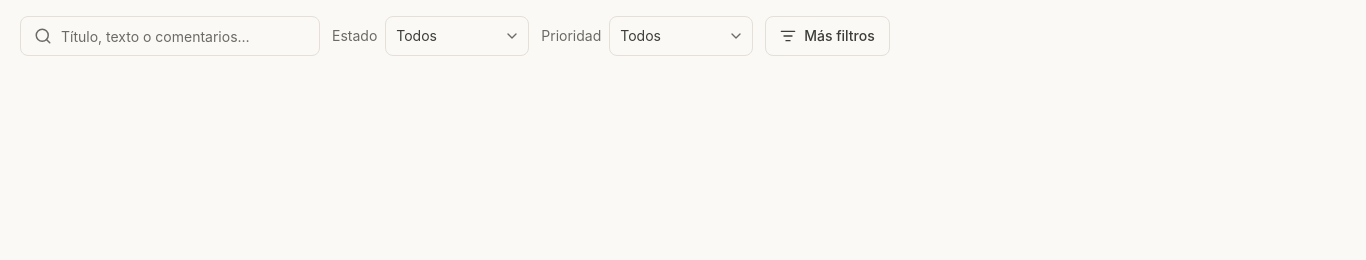
Test: TicketsFilters › «Más filtros» › se despliega y se pliega
Click the button "Más filtros": (827, 36) [765,16,890,56]
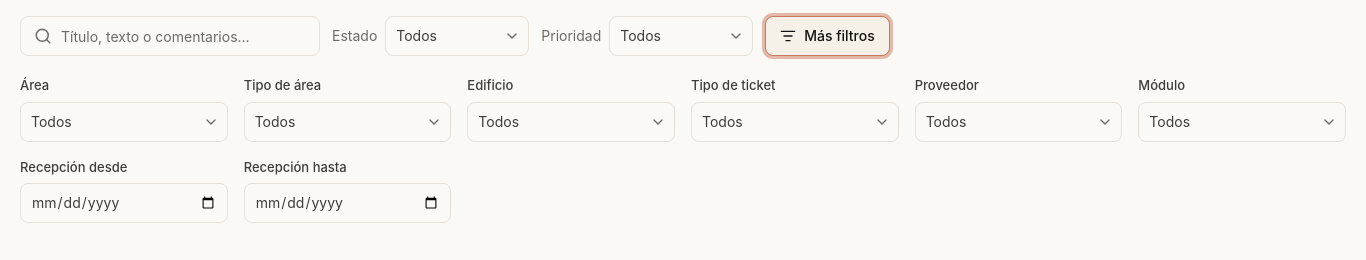
Result: the button "Más filtros" is expanded
Result: the element with id "filtros-adicionales" is shown
Result: the date field labelled "Recepción desde" is shown at [20,183,228,223]
Click the button "Más filtros": (827, 36) [765,16,890,56]
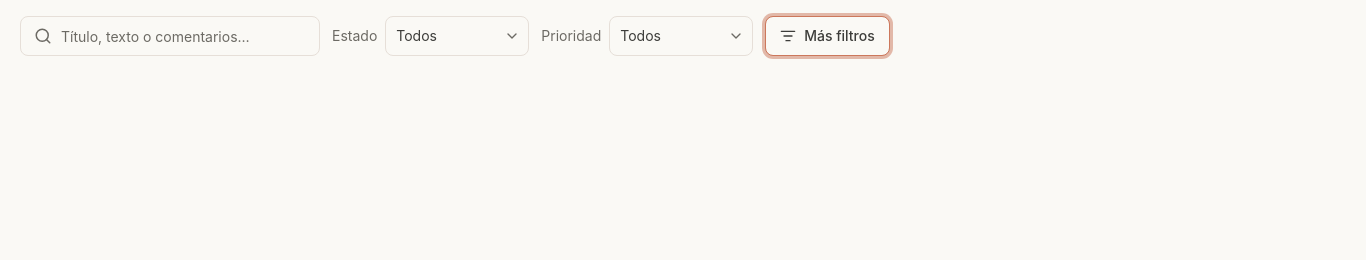
Result: the button "Más filtros" is collapsed at [765,16,890,56]
Result: the label labelled "Recepción desde" is gone
